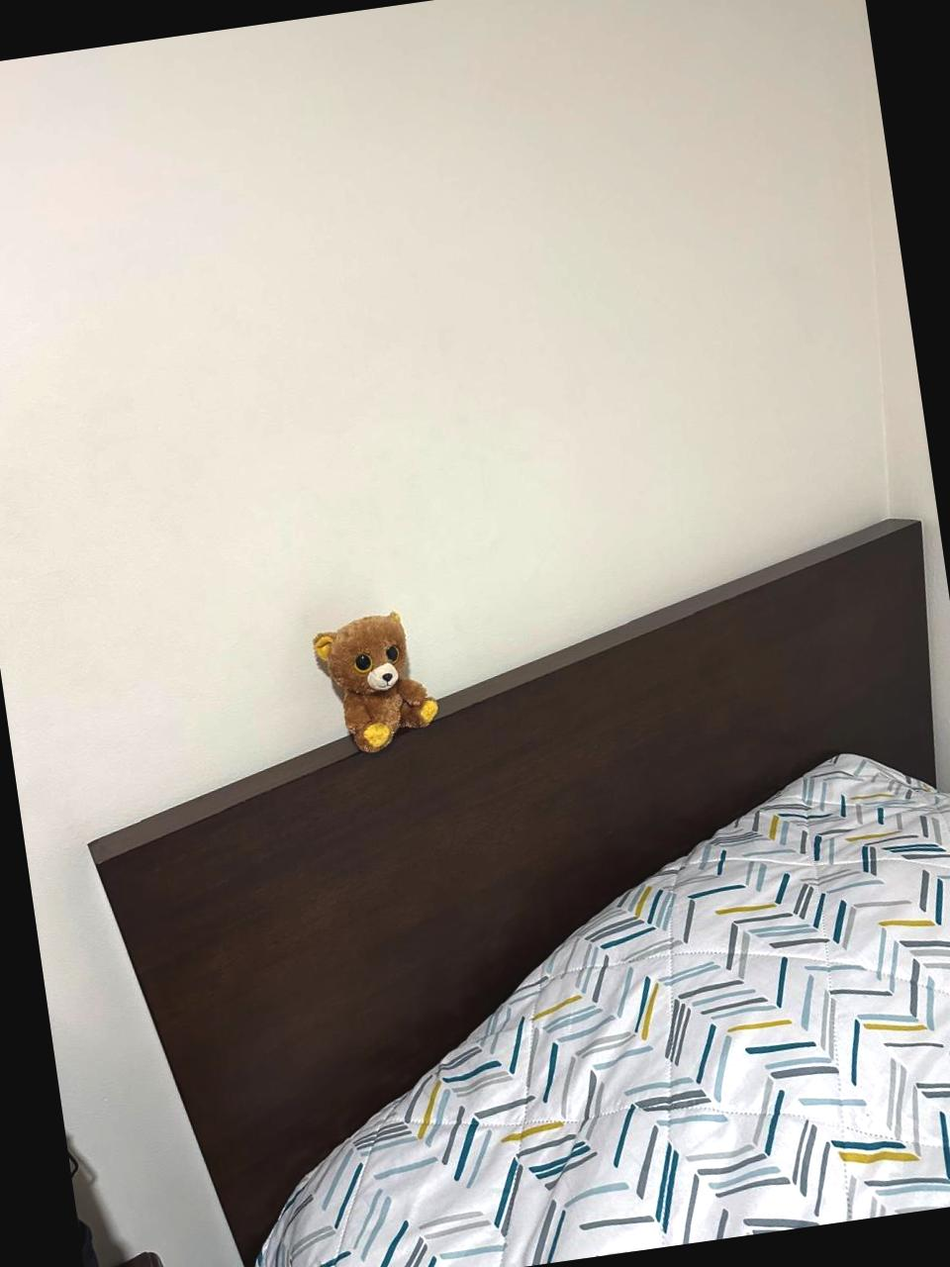peluche_sebastian: (311, 608, 446, 761)
